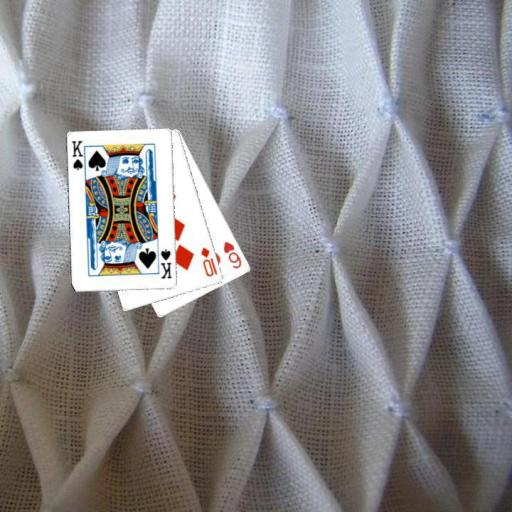10D: (198, 244, 219, 278)
6H: (221, 238, 244, 270)
KS: (69, 138, 87, 174), (158, 246, 173, 280)
